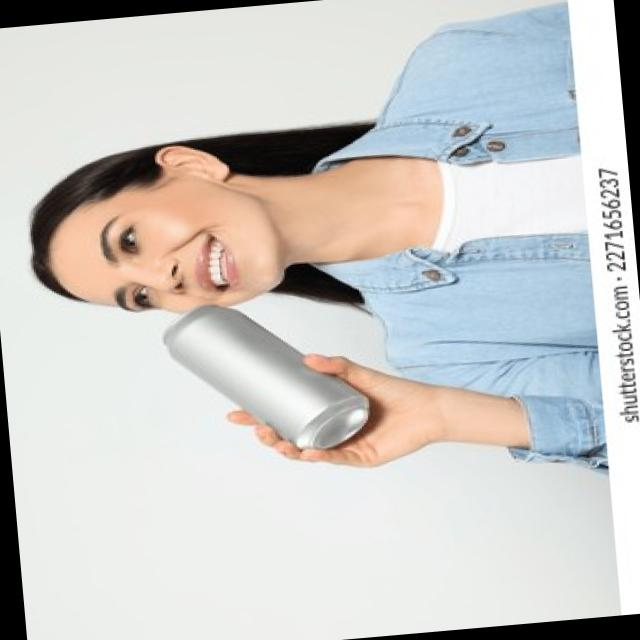soda_can: (141, 285, 394, 457)
